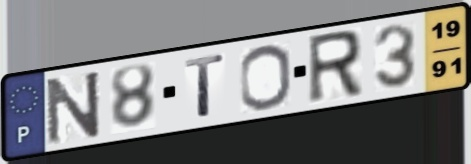3: (372, 21, 418, 93)
8: (108, 63, 159, 134)
N: (44, 68, 104, 148)
O: (237, 42, 294, 112)
R: (305, 27, 366, 107)
T: (183, 52, 228, 119)
